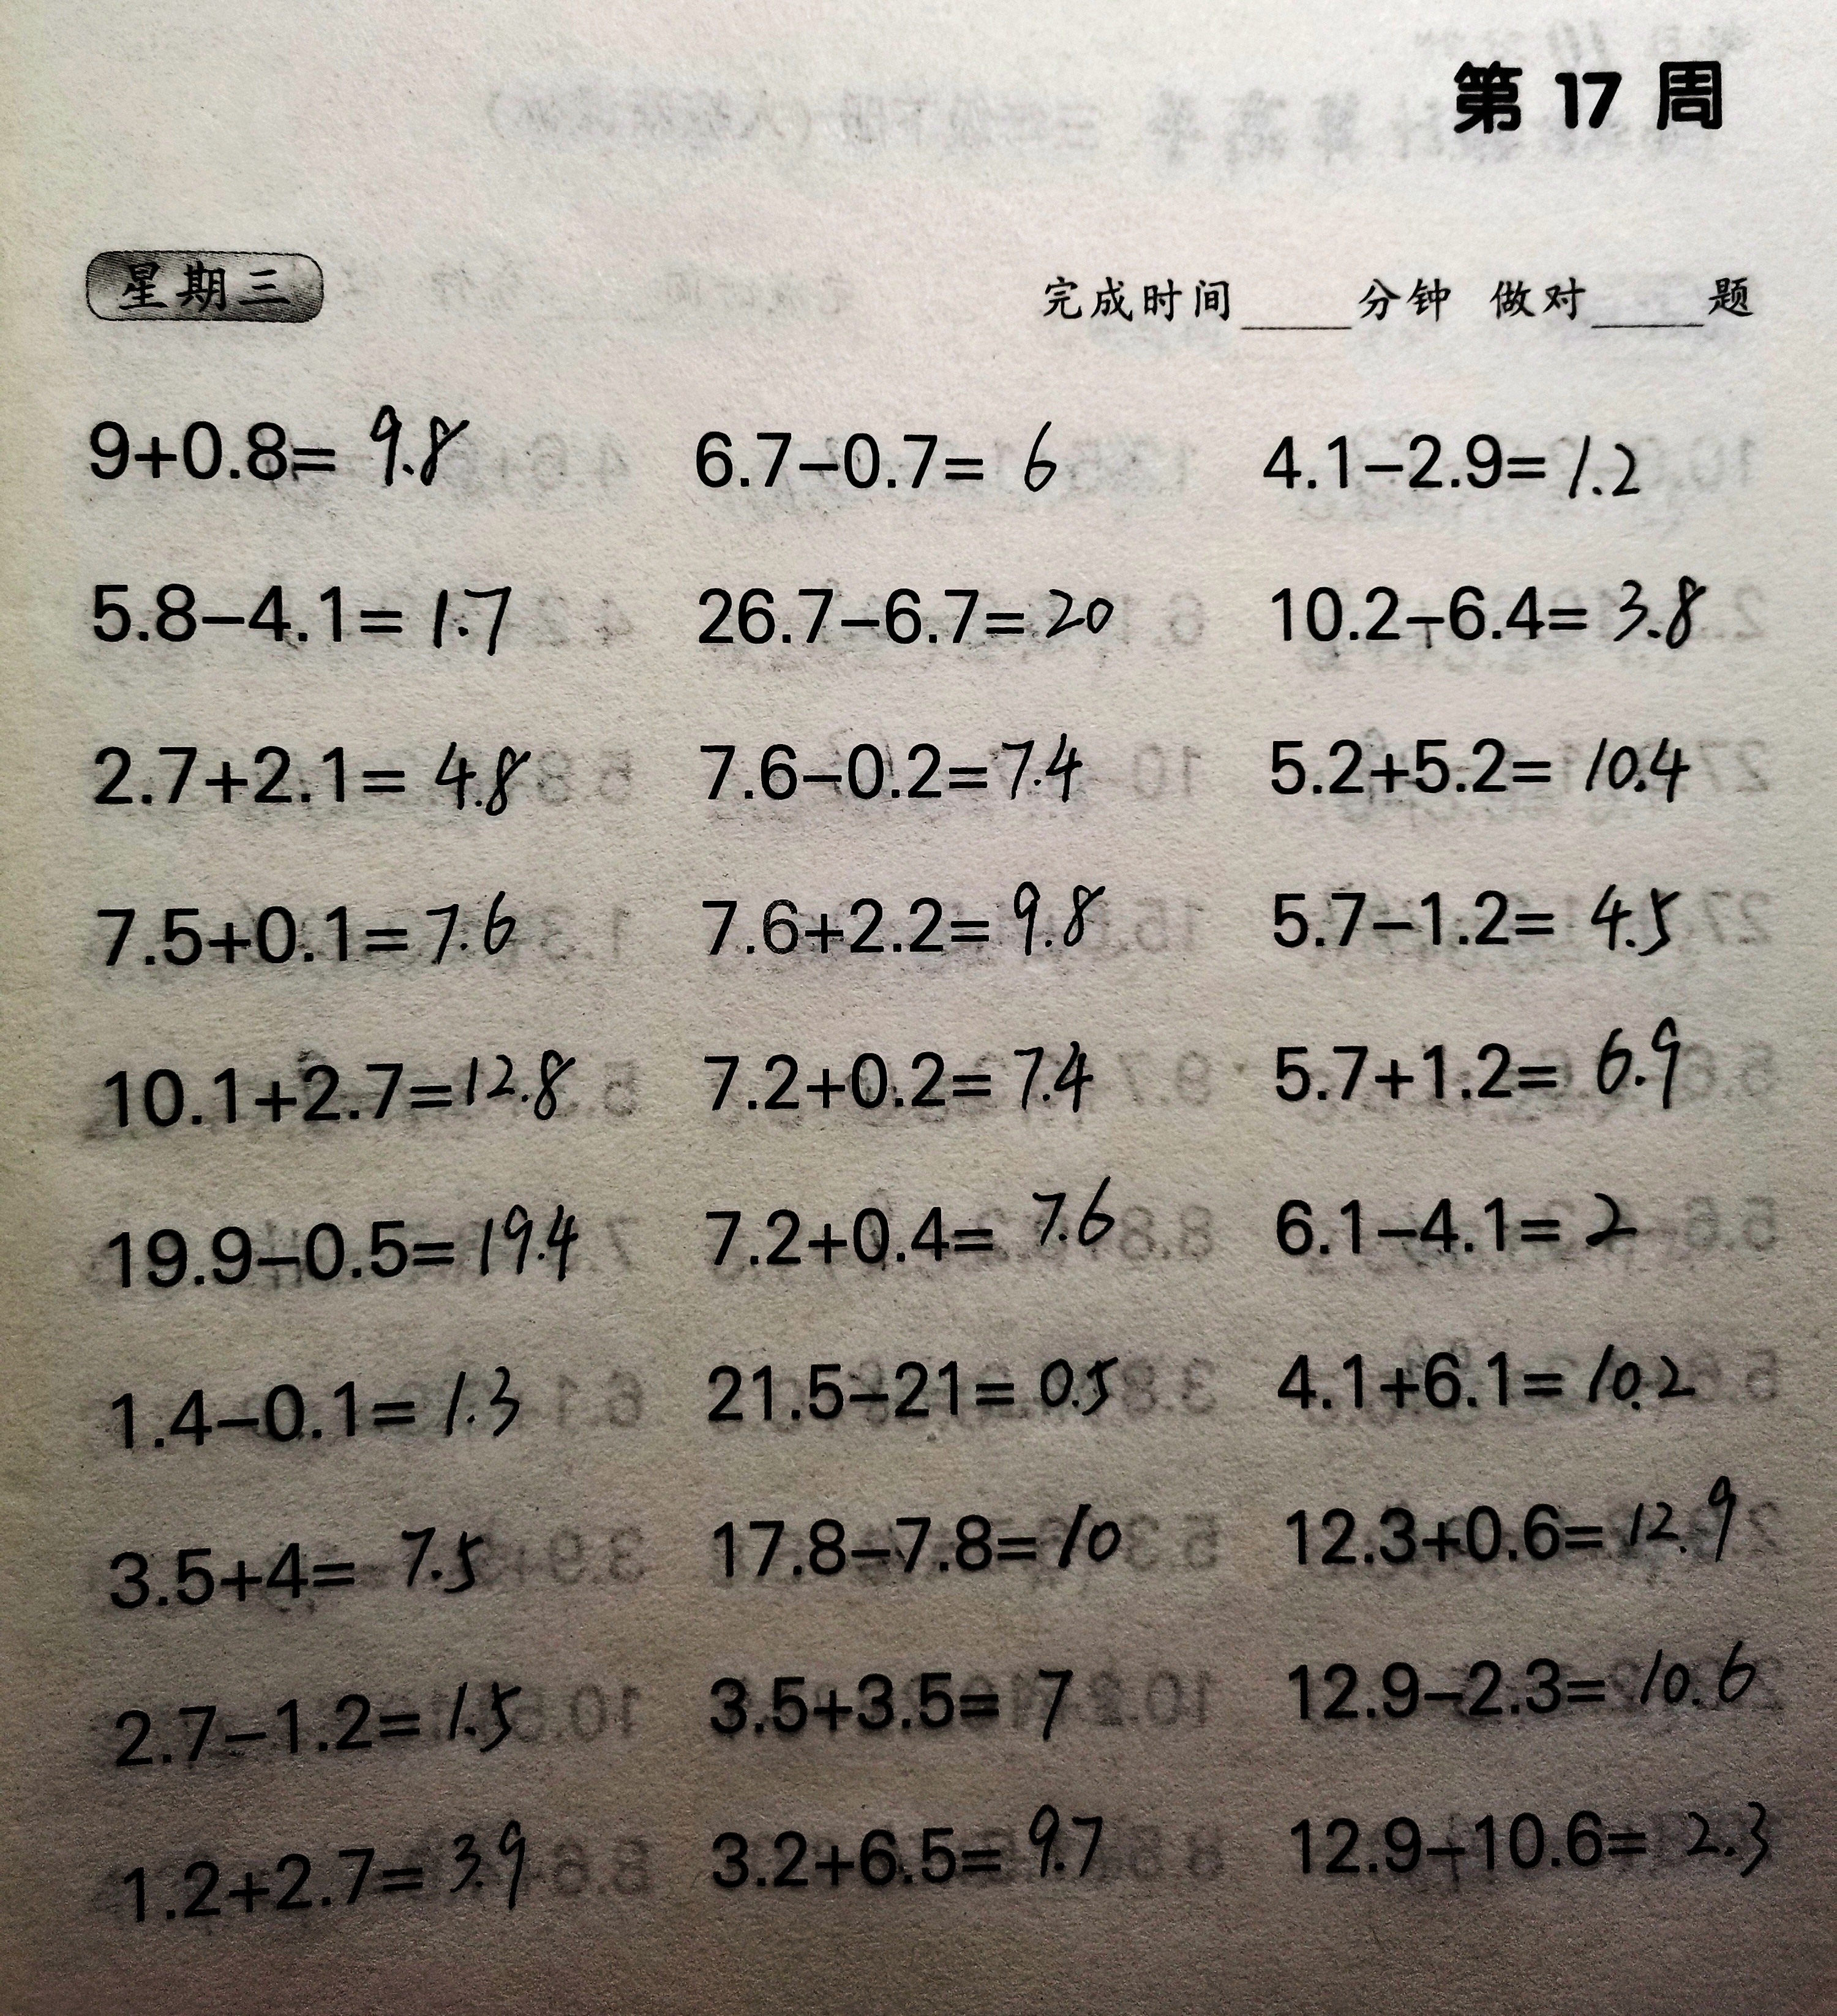equation: (1264, 1777, 1807, 1907), (1252, 994, 1726, 1134), (65, 1180, 592, 1305), (98, 1802, 555, 1939), (84, 1340, 534, 1470), (685, 1777, 1135, 1907), (58, 544, 516, 671), (1264, 1465, 1769, 1579), (1245, 1322, 1756, 1435), (1266, 1631, 1798, 1739), (60, 367, 481, 500), (701, 1470, 1150, 1595), (702, 1161, 1150, 1284), (683, 1017, 1156, 1133), (676, 551, 1138, 669), (673, 379, 1092, 508), (70, 711, 539, 824), (1252, 397, 1672, 520), (83, 1660, 541, 1772), (1247, 860, 1707, 971), (83, 1034, 588, 1134), (680, 852, 1113, 964), (690, 1637, 1105, 1753), (79, 1507, 513, 1617), (690, 704, 1103, 820), (84, 878, 551, 980), (695, 1335, 1129, 1442), (1250, 557, 1716, 655), (1259, 711, 1700, 806), (1259, 1159, 1649, 1261)
